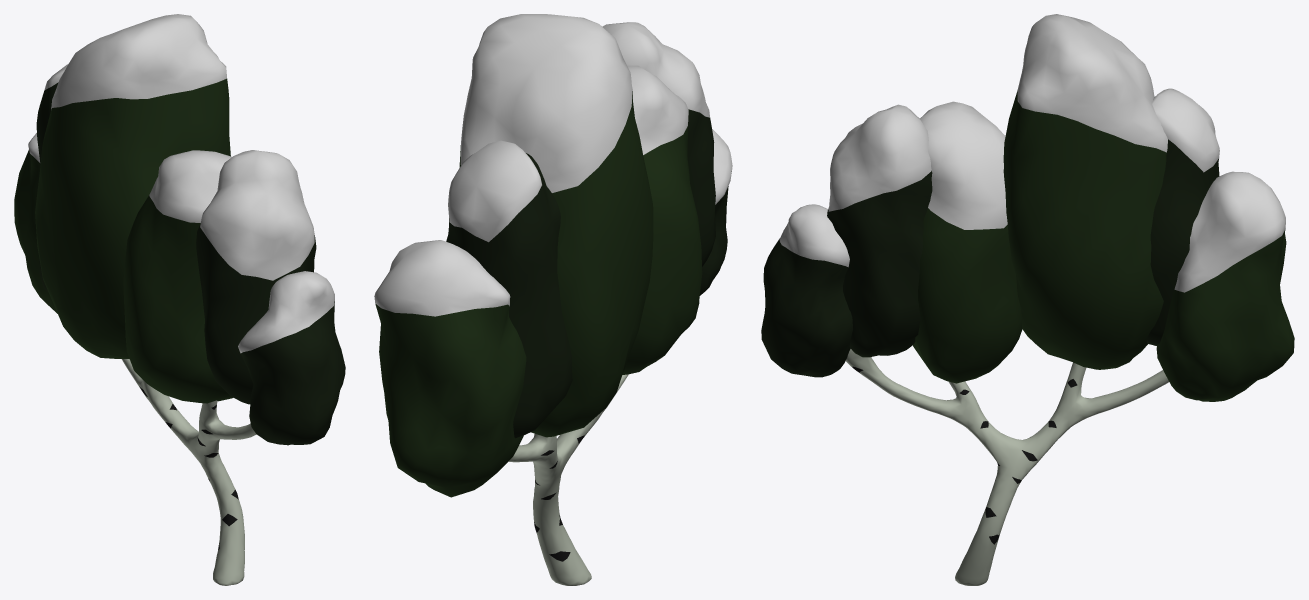
The model's file is BirchTree_Snow_4.fbx.
3 views of the same model, side by side, from view 1: azimuth 30°, elevation 25°; view 2: azimuth 150°, elevation 25°; view 3: azimuth 270°, elevation 25° (orthographic). The views are drawn at different scales.
Parts seen in each view (by area): view 1: BirchTree_Snow_4; view 2: BirchTree_Snow_4; view 3: BirchTree_Snow_4.
Part boxes in pixels (x1,y1,x2,y2): BirchTree_Snow_4: (14,14,345,585); BirchTree_Snow_4: (374,14,732,585); BirchTree_Snow_4: (761,14,1294,585).
Bounding box in the file's own units: 191 × 564 × 629.
